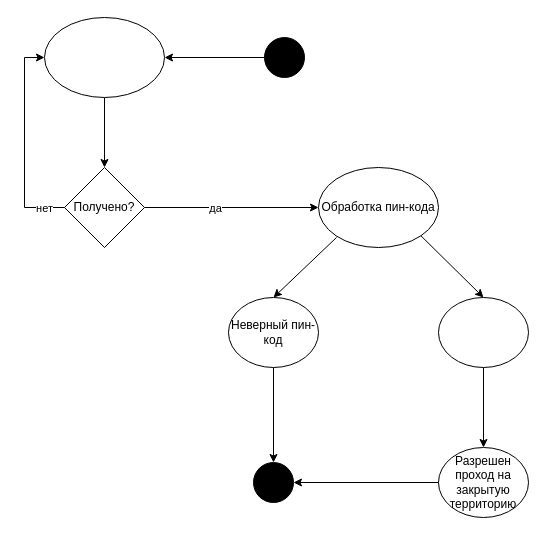
Some shapes in this 546 by 535 pixel diagram are drawn without their labels. The centre of each missing label's shape, as x and y in pixels:
Верный пин-код: [483,332]
Ожидание пин-кода: [104,57]
